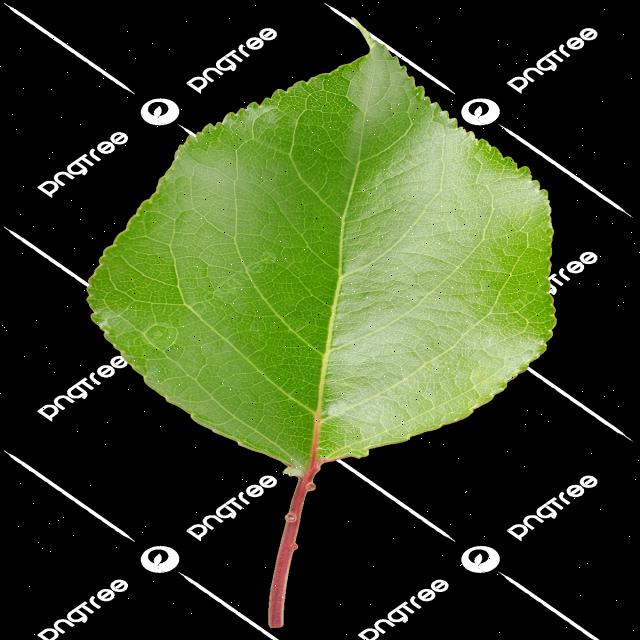kayisi yapragi: (80, 17, 563, 480)
